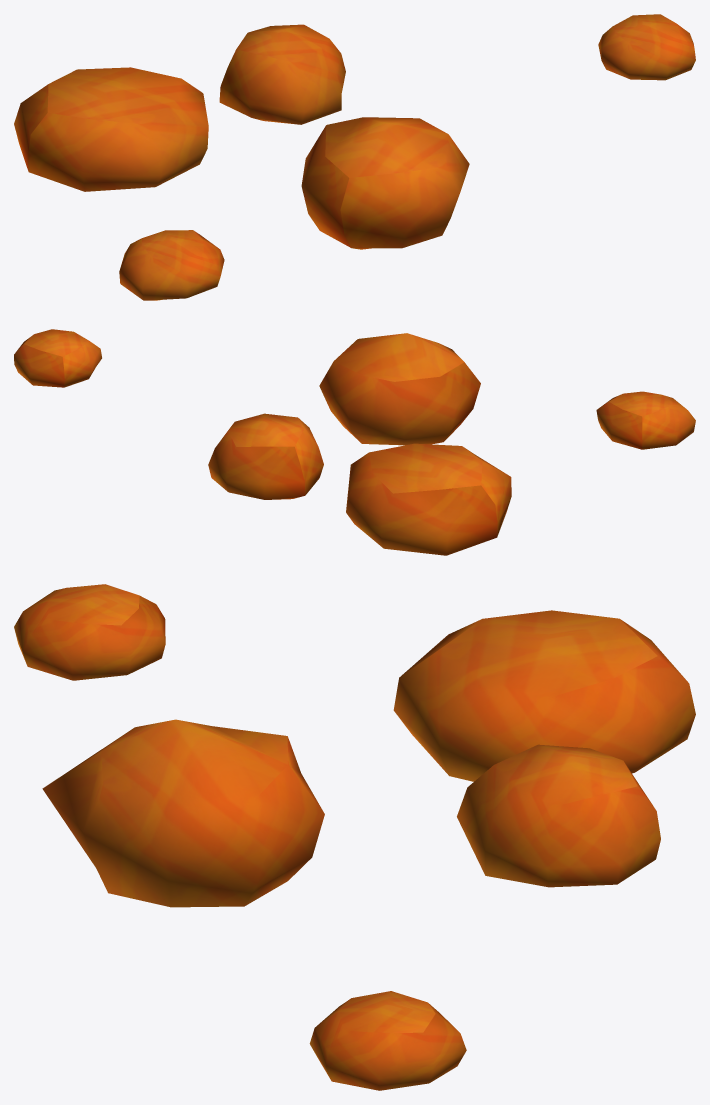
The model's file is pedrinhas2.fbx.
3 views of the same model, one above another, from view 1: azimuth 30°, elevation 25°; view 2: azimuth 150°, elevation 25°; view 3: azimuth 270°, elevation 25° (orthographic). The views are drawn at different scales.
Visible parts, largest first — view 1: pedras4; view 2: pedras4; view 3: pedras4.
Part boxes in pixels (x1,y1,x2,y2): pedras4: (14, 14, 695, 300); pedras4: (14, 329, 695, 555); pedras4: (14, 584, 695, 1090).
Size of the model in its own units: 284 by 46.31 by 171.
1 material, 1 textured.
